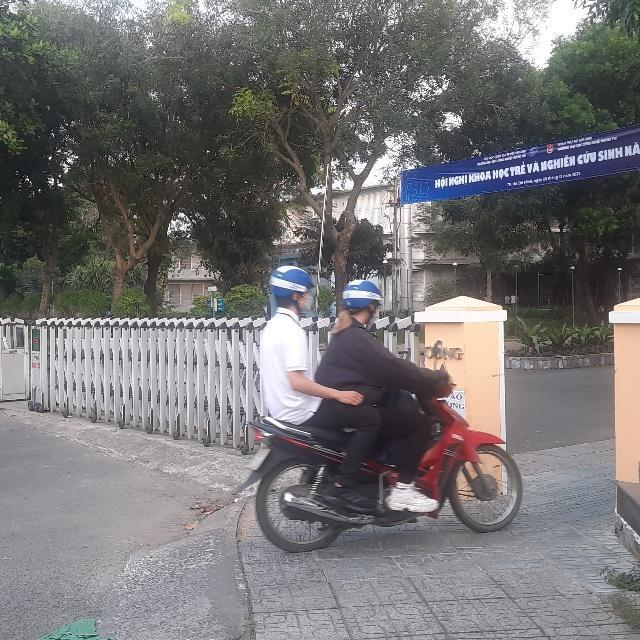Helmet: (267, 263, 317, 317), (344, 276, 384, 326)
